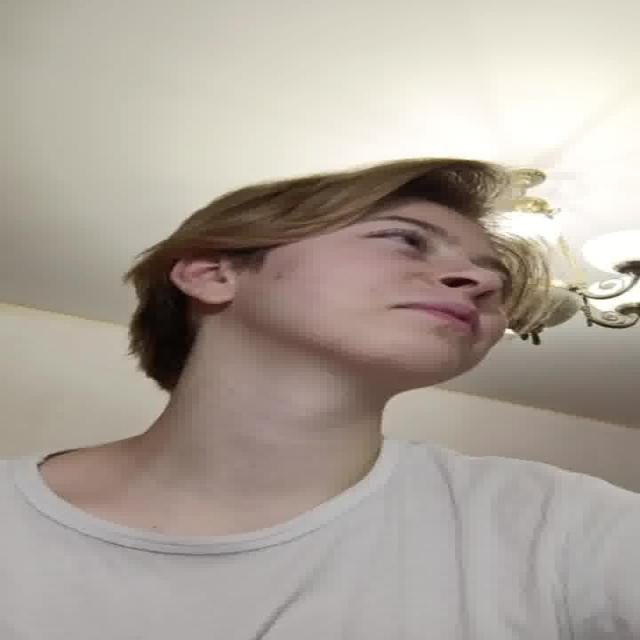earlobe: (199, 282, 238, 305)
eye: (367, 229, 430, 252)
nose: (433, 283, 488, 308)
wholeear: (171, 250, 238, 305)
